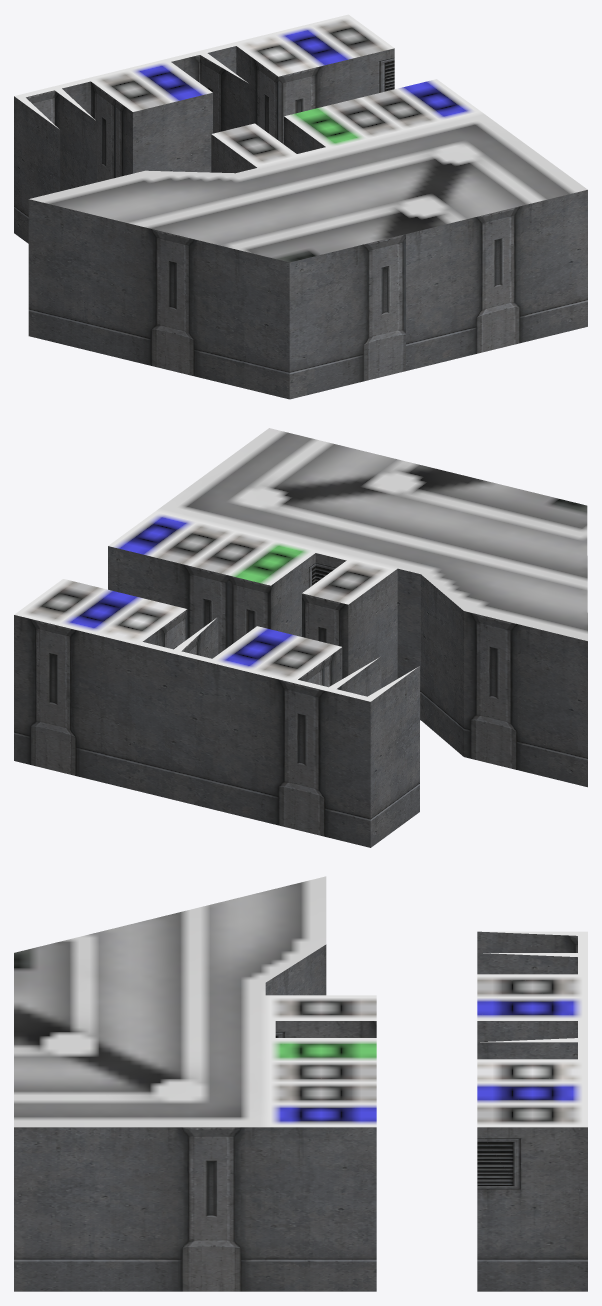
Rendered from BuildingSystem-03-Advance-04-ReinforcedMedium-A-120-03.glb.
The picture shows the model from 3 angles, top to bottom: view 1: azimuth 30°, elevation 25°; view 2: azimuth 150°, elevation 25°; view 3: azimuth 270°, elevation 25°; orthographic projection. The views are drawn at different scales.
Visible parts, largest first — view 1: buildings/saxarba/SMV_Buildings/BuildingSystem-03-Advance-04; view 2: buildings/saxarba/SMV_Buildings/BuildingSystem-03-Advance-04; view 3: buildings/saxarba/SMV_Buildings/BuildingSystem-03-Advance-04.
Part boxes in pixels (<box>): buildings/saxarba/SMV_Buildings/BuildingSystem-03-Advance-04: <box>14,14,587,399</box>; buildings/saxarba/SMV_Buildings/BuildingSystem-03-Advance-04: <box>14,428,587,847</box>; buildings/saxarba/SMV_Buildings/BuildingSystem-03-Advance-04: <box>14,876,587,1291</box>.
Size of the model in its own units: 59 by 18 by 57.
